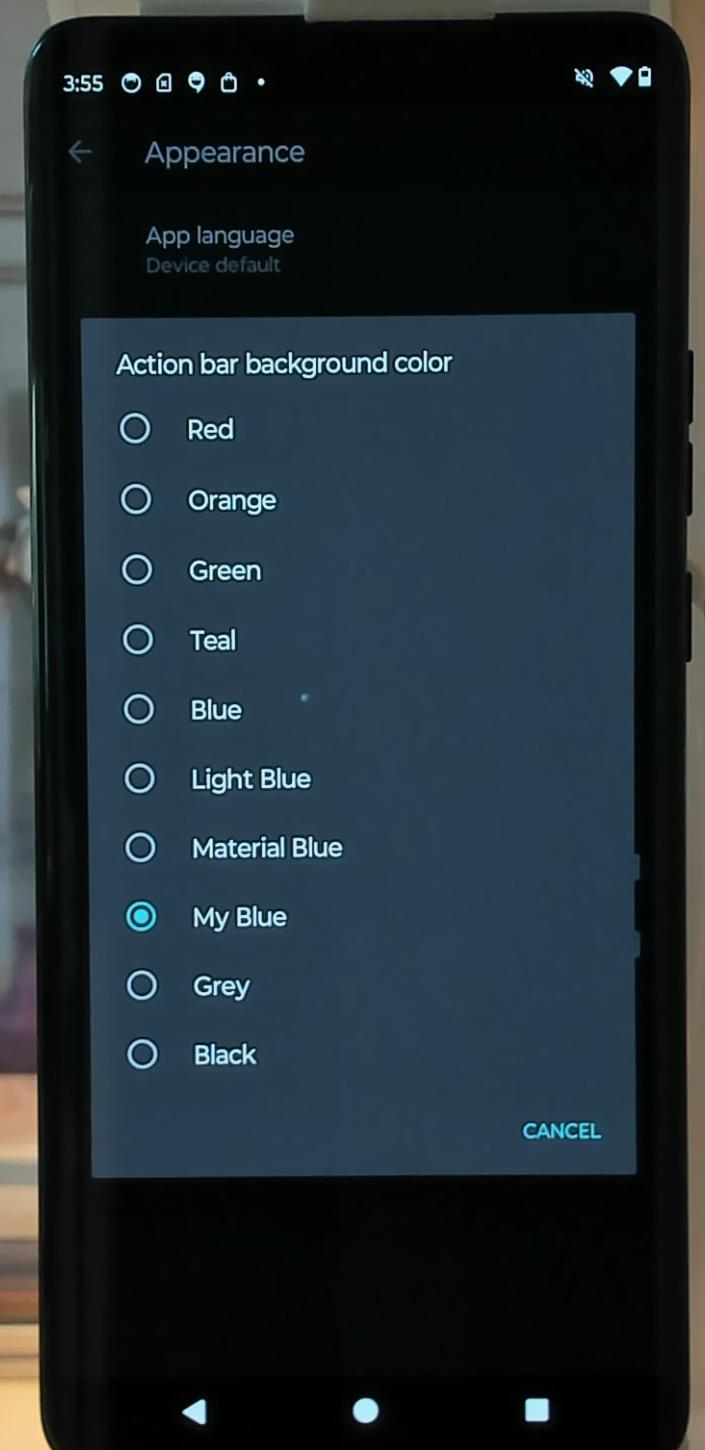CommunBotton: (519, 1384, 562, 1441), (174, 1386, 217, 1435), (349, 1388, 384, 1433)
RadioButton: (120, 825, 350, 868), (119, 752, 320, 800), (115, 475, 281, 524), (111, 400, 245, 453), (117, 545, 277, 588), (121, 897, 293, 936), (115, 684, 249, 732), (117, 617, 244, 666), (121, 1033, 263, 1075), (123, 964, 257, 1007)
